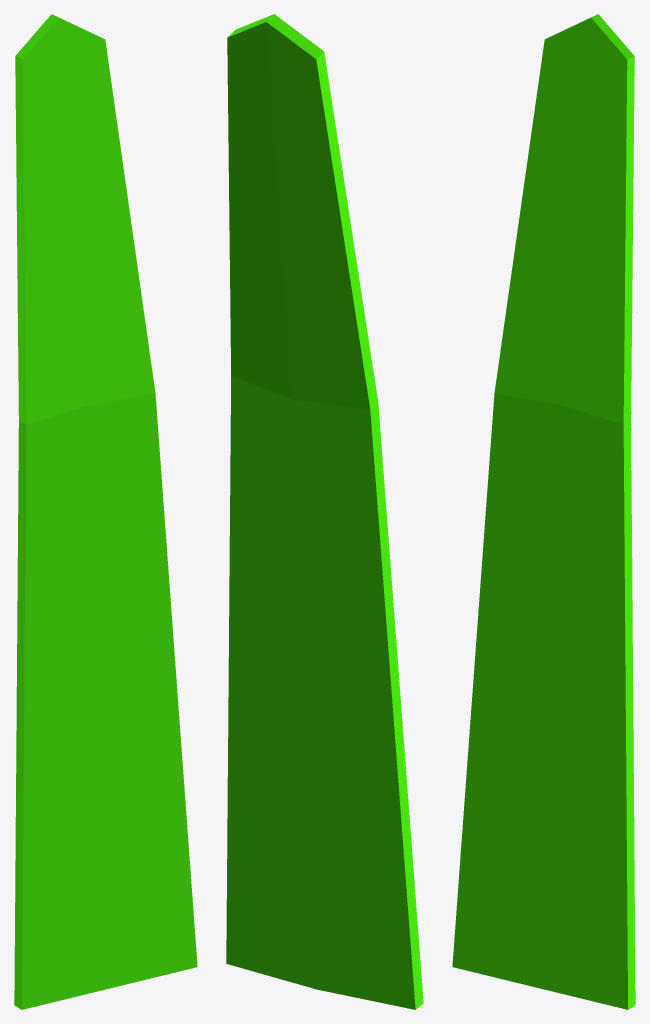
File: Hierba_03.fbx
3 views of the same model, side by side, from view 1: azimuth 30°, elevation 25°; view 2: azimuth 150°, elevation 25°; view 3: azimuth 330°, elevation 25° (orthographic). The views are drawn at different scales.
Visible parts, largest first — view 1: SM_Hierba_03; view 2: SM_Hierba_03; view 3: SM_Hierba_03.
Boxes of the visible parts, bbox=[...] form: SM_Hierba_03: bbox=[14, 14, 197, 1009]; SM_Hierba_03: bbox=[226, 14, 423, 1009]; SM_Hierba_03: bbox=[452, 14, 635, 1009].
Bounding box in the file's own units: 4.94 × 25.09 × 2.83.
